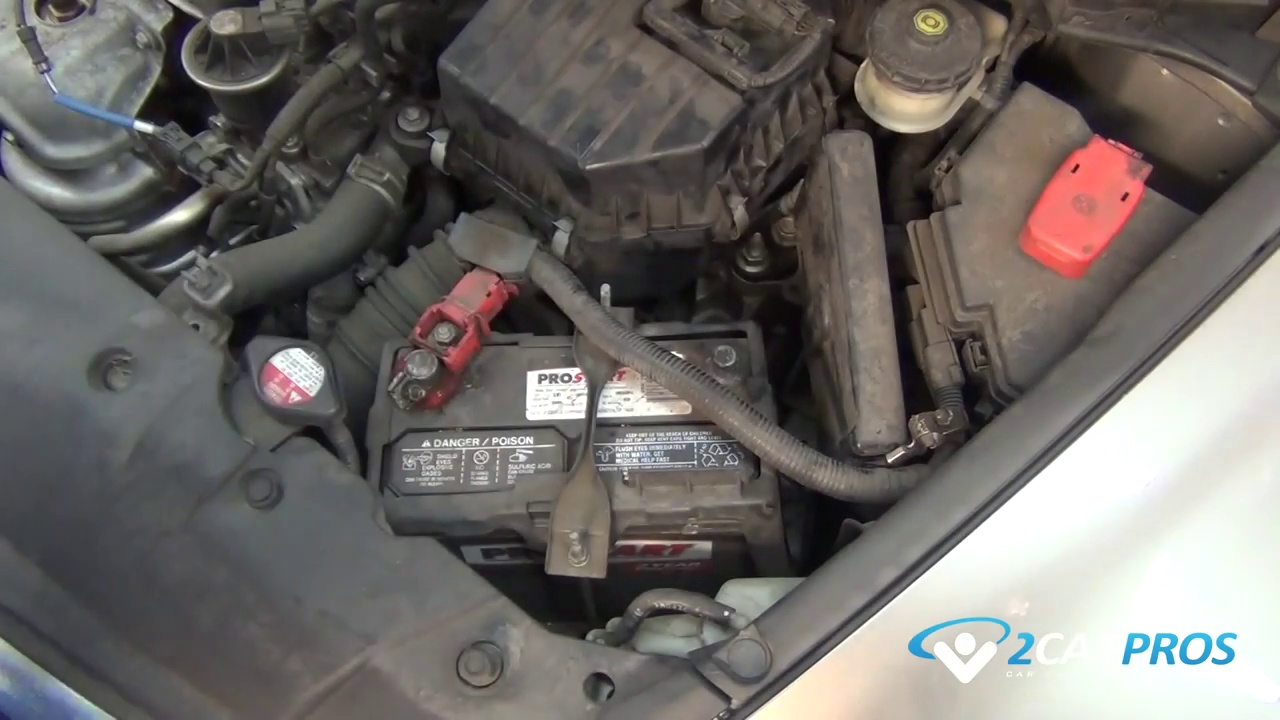battery: (372, 316, 768, 520)
neg_disconnected: (674, 323, 770, 394)
pos_connected: (369, 265, 514, 413)
